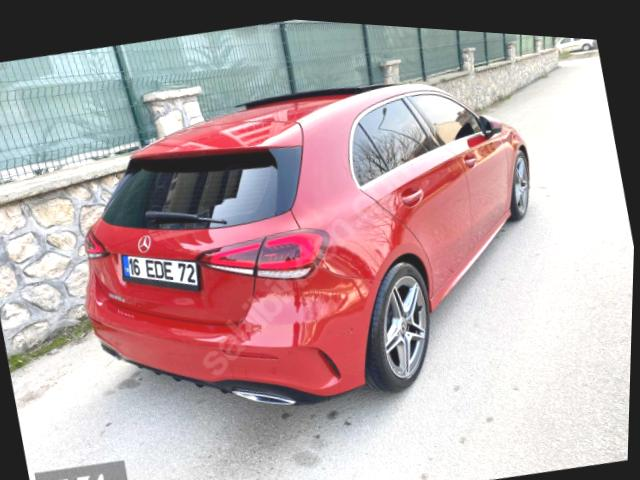plaka: (121, 255, 198, 289)
